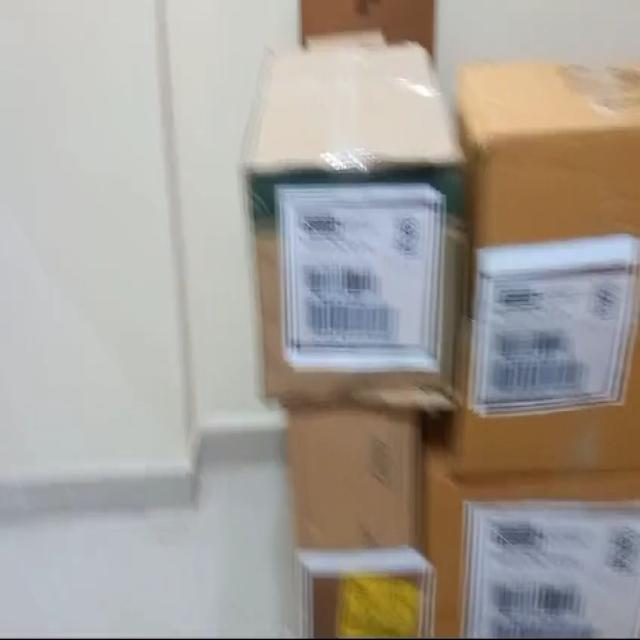BoxFace: (242, 155, 474, 429), (473, 126, 640, 485), (423, 467, 640, 640), (283, 403, 431, 640)
